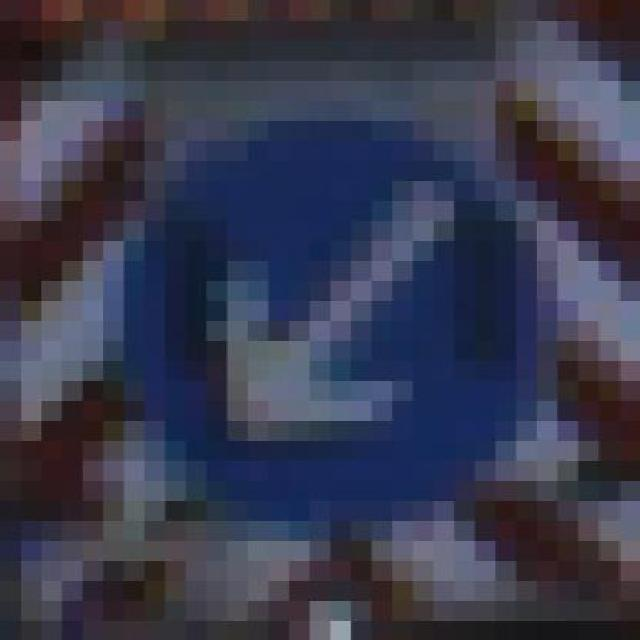Keep-Left: (82, 100, 578, 540)
